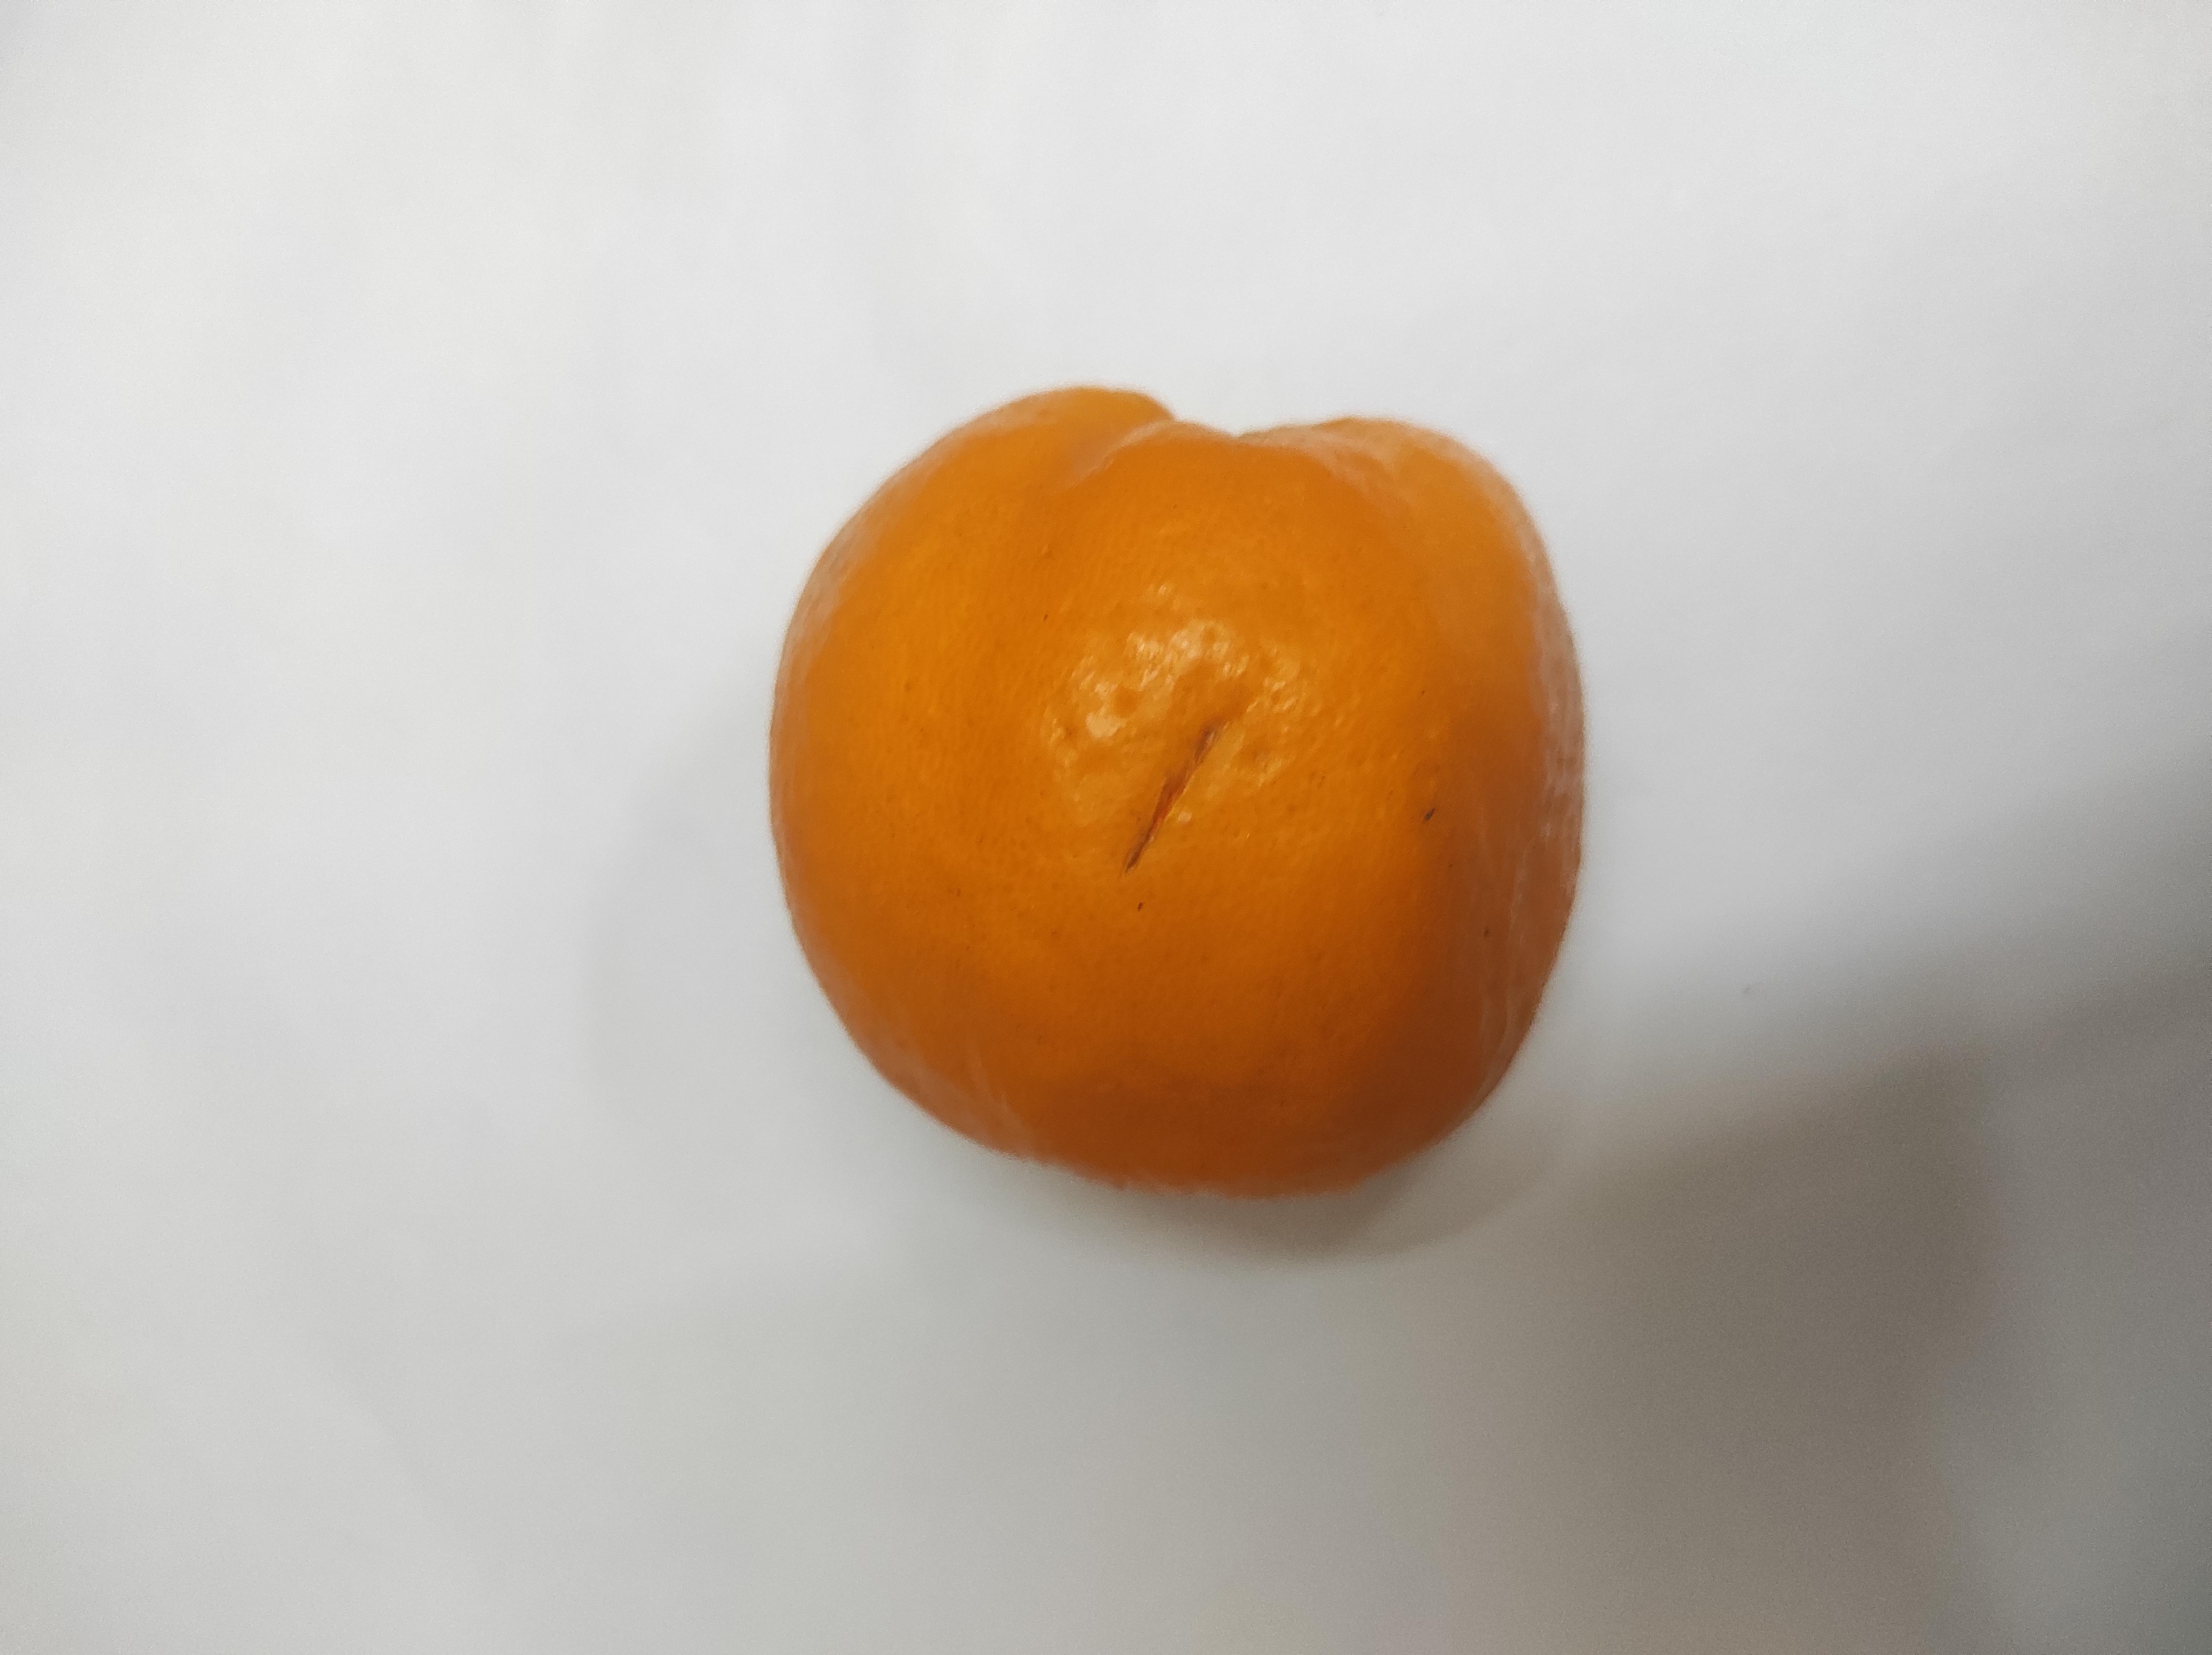Unripe: (593, 570, 1708, 1177)
